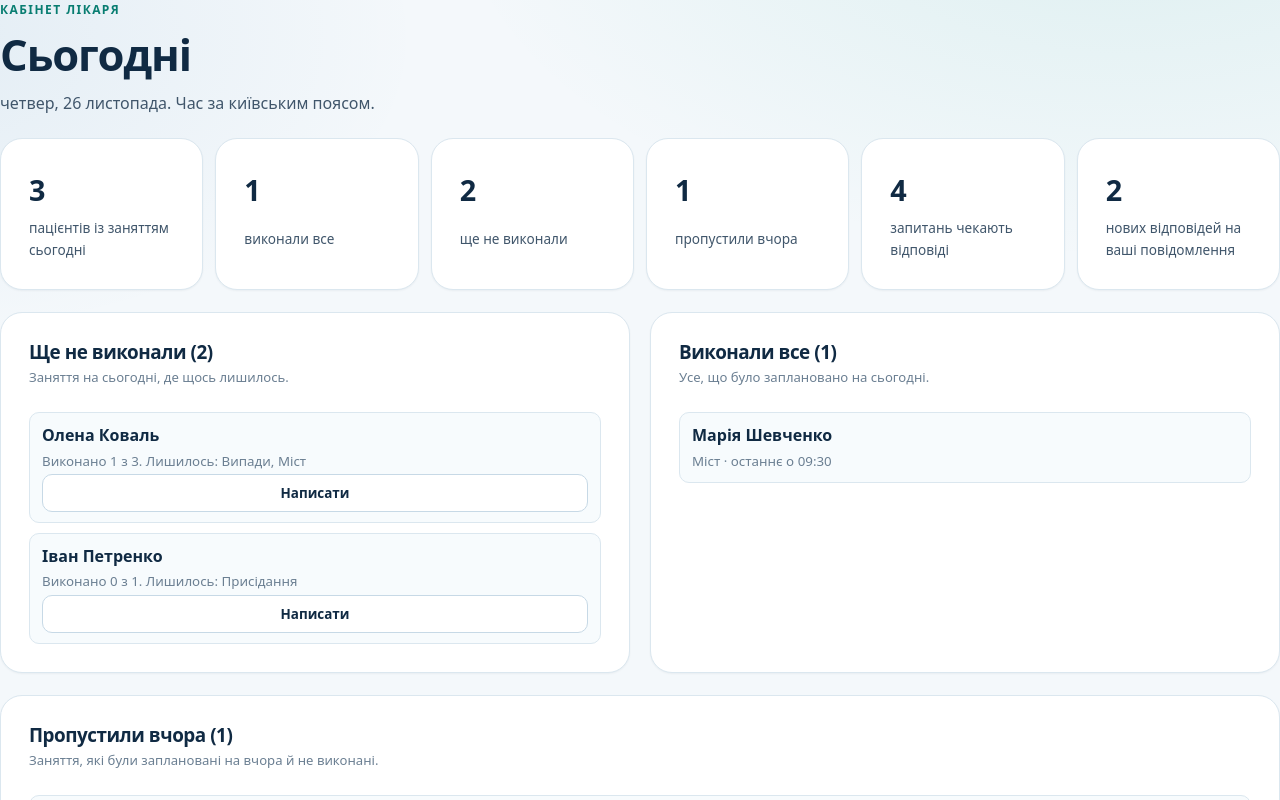
The therapist Today page › lets the doctor write to a patient who has not finished, with the missing exercises in the text
The width and height of the screenshot is (1280, 800).
Click the button "Написати" below "Олена Коваль". click: click(315, 493)
box: [42,474,588,512]
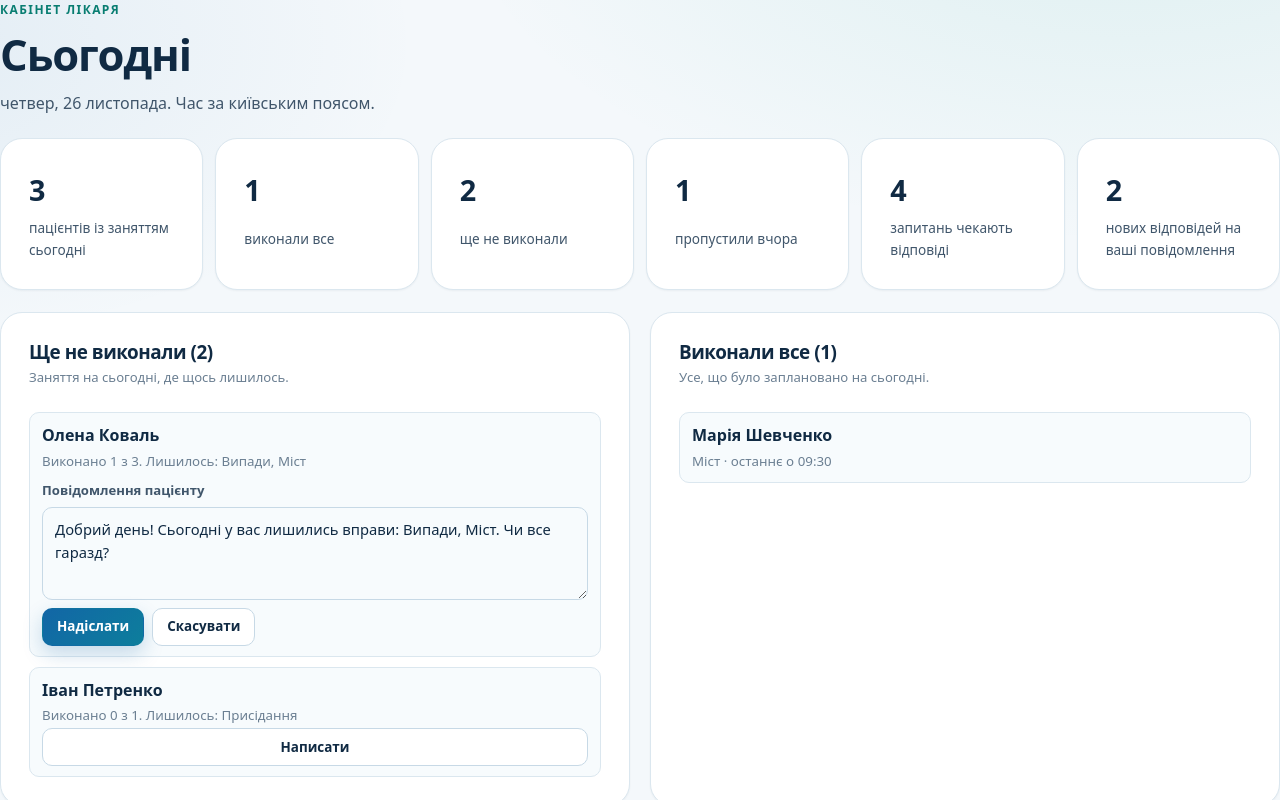
Expected: the text box labelled "Повідомлення пацієнту" holds "Добрий день! Сьогодні у вас лишились вправи: Випади, Міст. Чи все гаразд?", [42,507,588,600]
